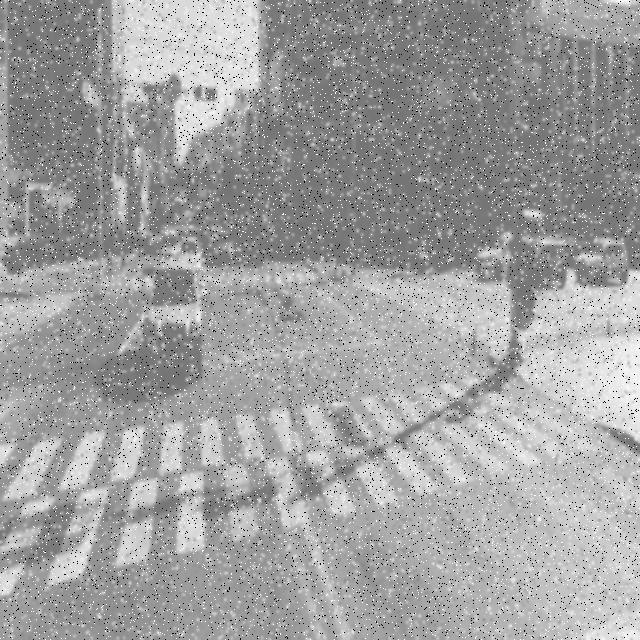crosswalk: (0, 367, 638, 601), (359, 261, 545, 357), (122, 254, 339, 303), (0, 285, 103, 362)
